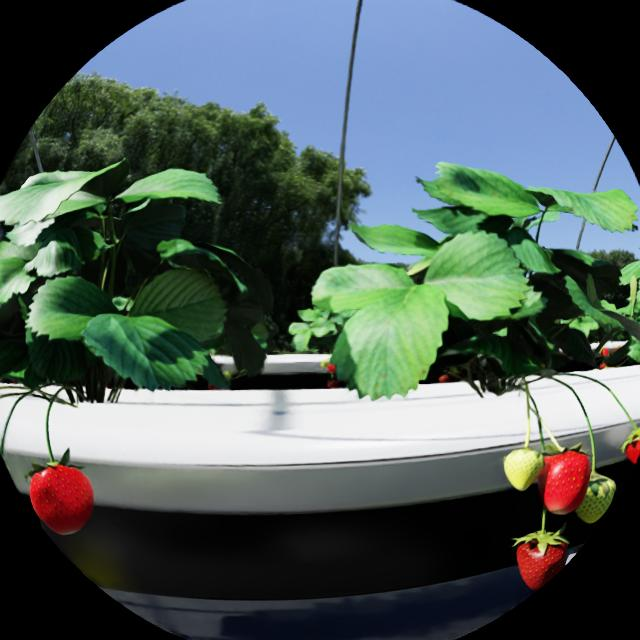Fruit-Stem-Detection: (564, 373, 637, 428), (555, 378, 595, 471), (45, 390, 59, 464), (525, 386, 531, 447)
